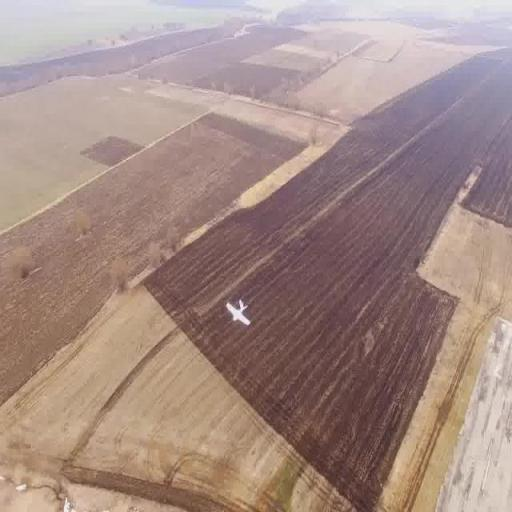uav: (221, 294, 254, 336)
